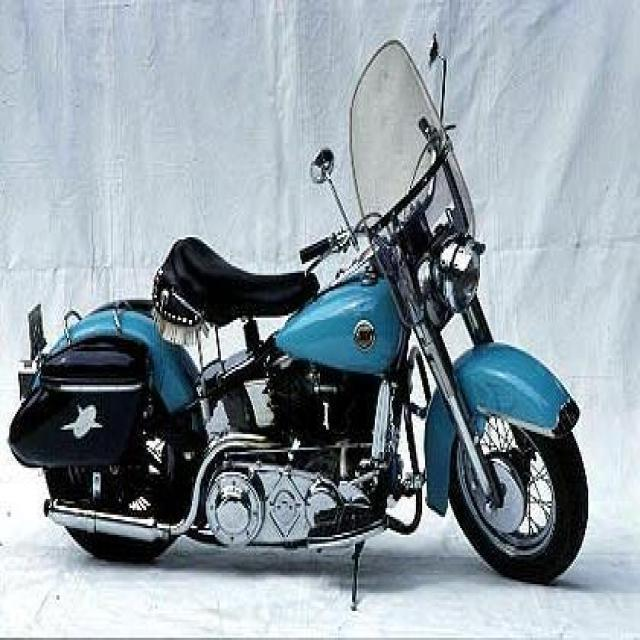Motorcycle: (12, 172, 603, 583)
